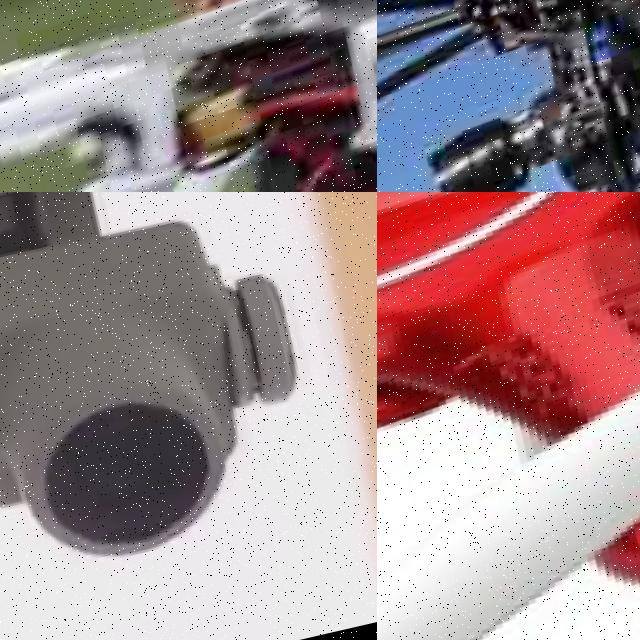0: (0, 0, 377, 192), (377, 0, 640, 192)
drone: (377, 192, 640, 640)
